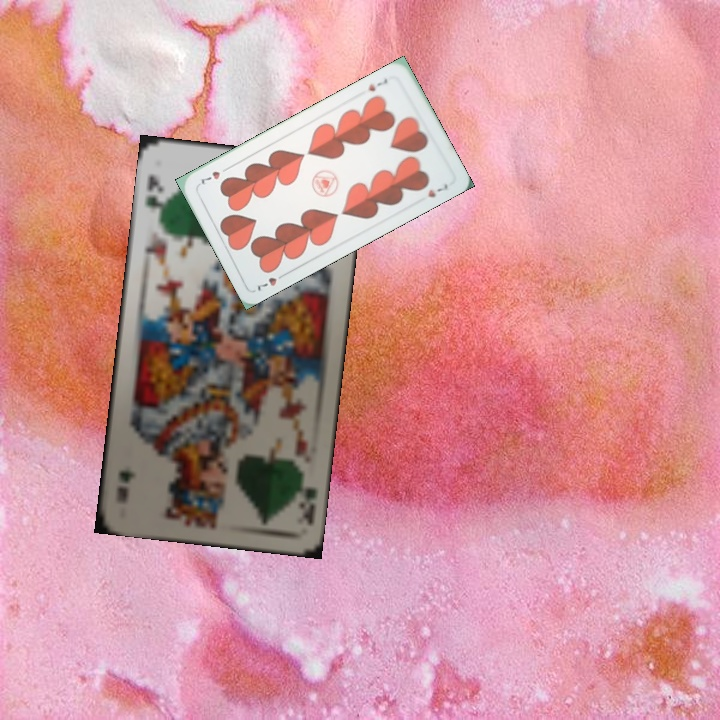GK: (293, 471, 320, 529), (142, 171, 166, 221)
H7: (253, 269, 289, 294), (364, 74, 390, 94)
